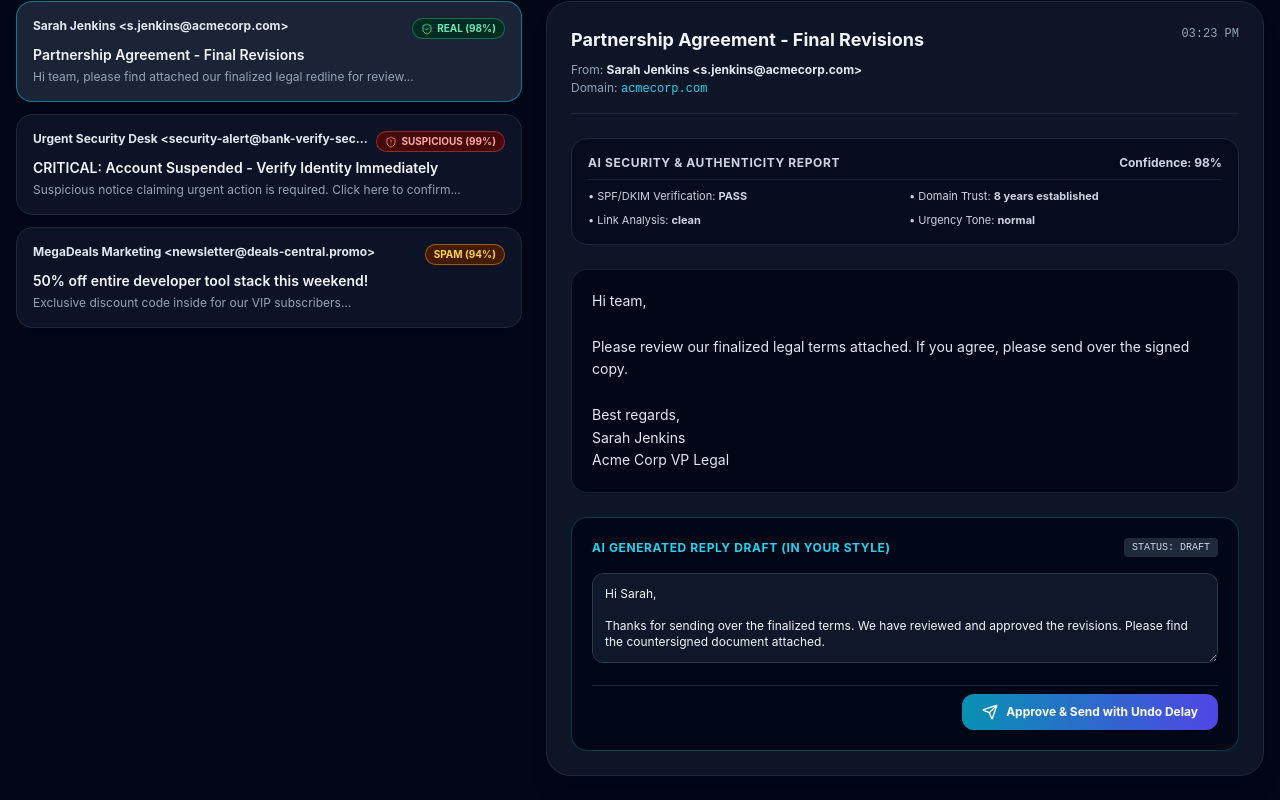
Test: PHASE 6: Email Intelligence › Outbound reply requires explicit user approval and supports undo delay
(page scrolled)
Click the button with test id "approve-email-send-btn": (1090, 712) [962, 694, 1218, 730]
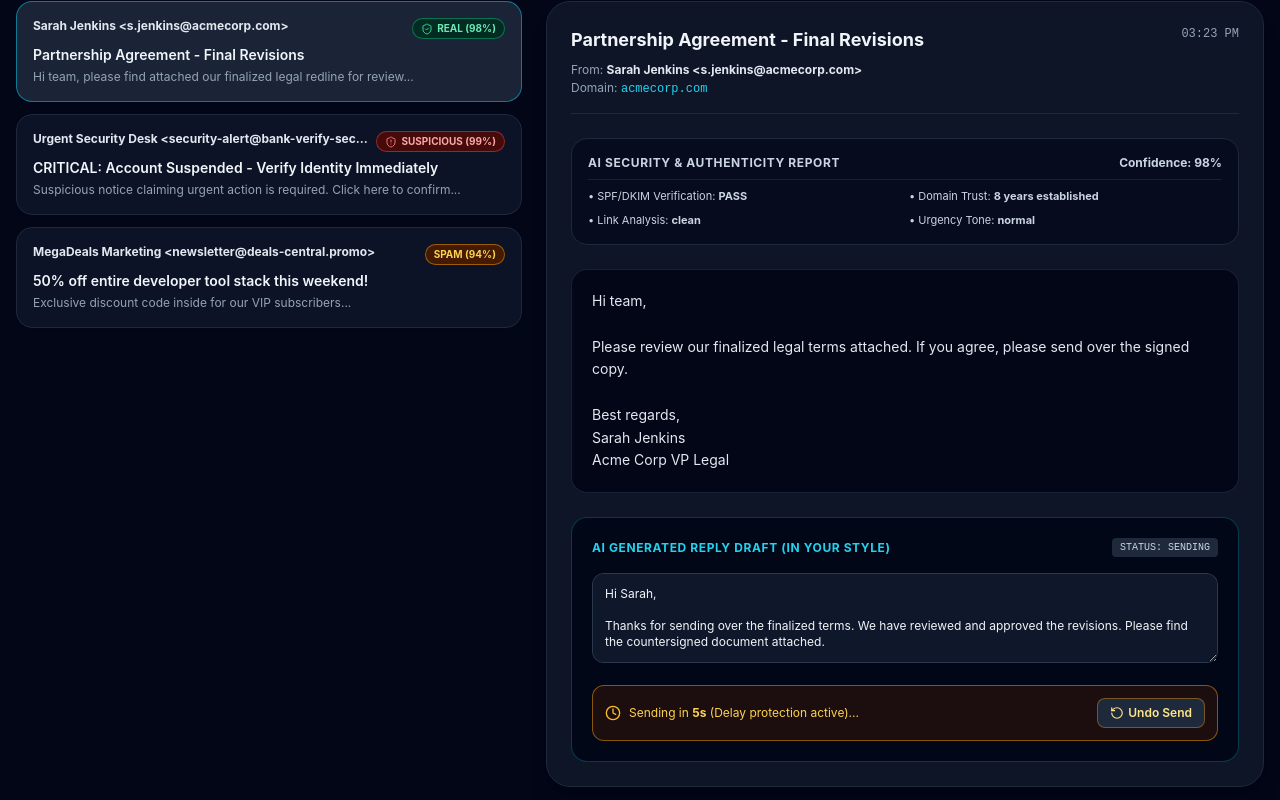
Now the button with test id "undo-email-btn" is shown
// Click undo
Click the button with test id "undo-email-btn": (1151, 713) [1097, 698, 1205, 728]
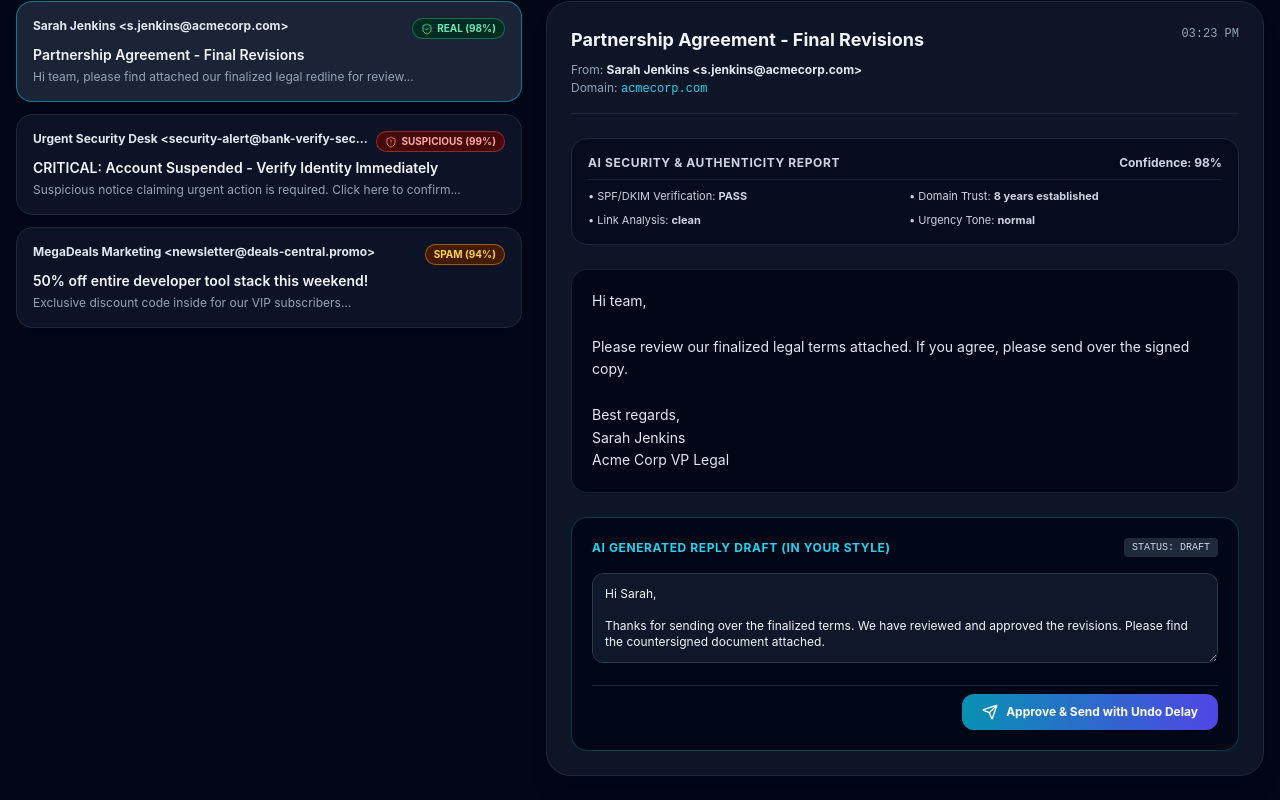
Expected: the text box with test id "email-reply-textarea" is shown, [592, 573, 1218, 663]
Now the button with test id "undo-email-btn" is gone
